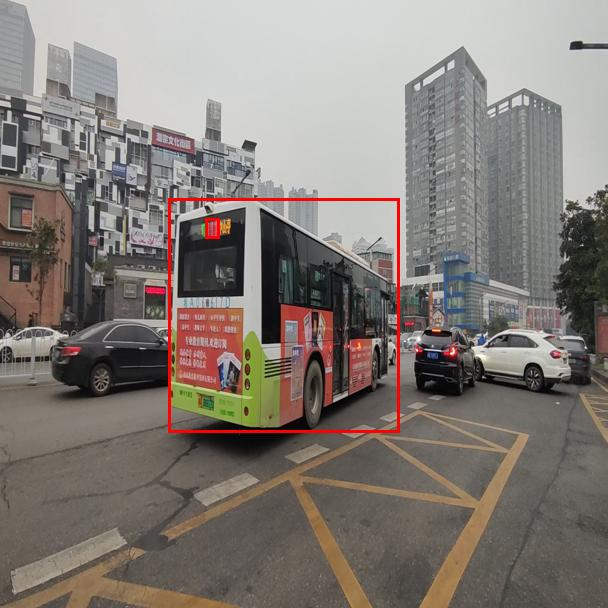bus: (168, 198, 399, 432)
screen: (205, 218, 219, 238)
